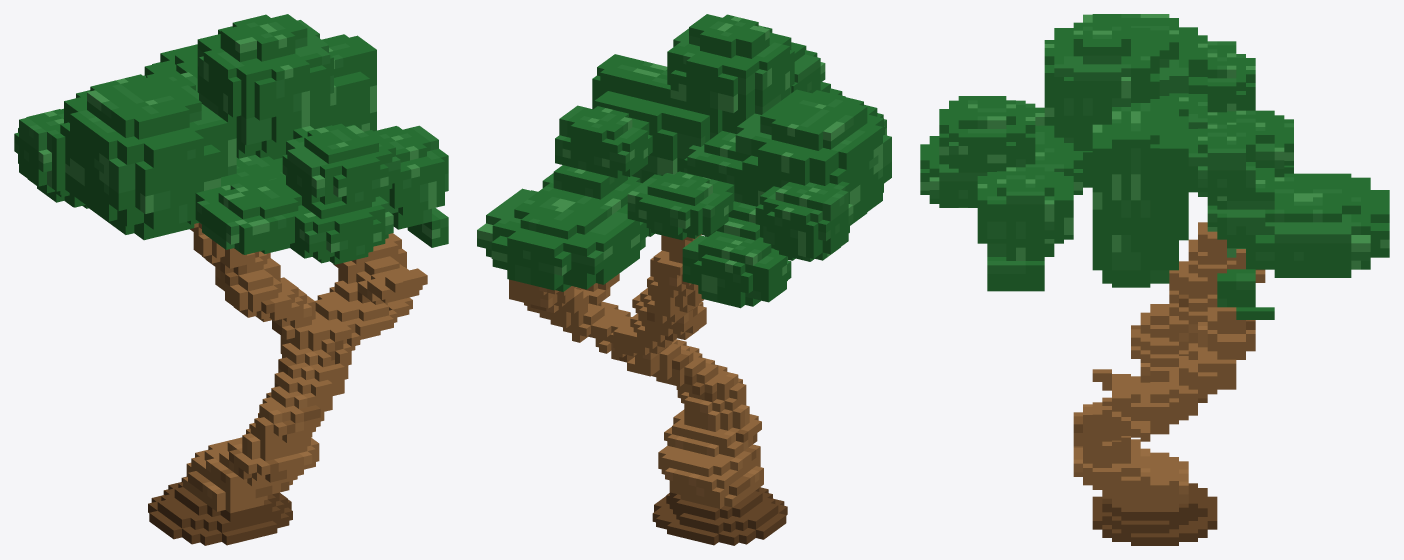
The model's file is 1_3 caju.obj.
3 views of the same model, side by side, from view 1: azimuth 30°, elevation 25°; view 2: azimuth 150°, elevation 25°; view 3: azimuth 270°, elevation 25° (orthographic). The views are drawn at different scales.
Size of the model in its own units: 4.2 by 5.7 by 4.9.
Materials: 1 (1 with a texture image).
